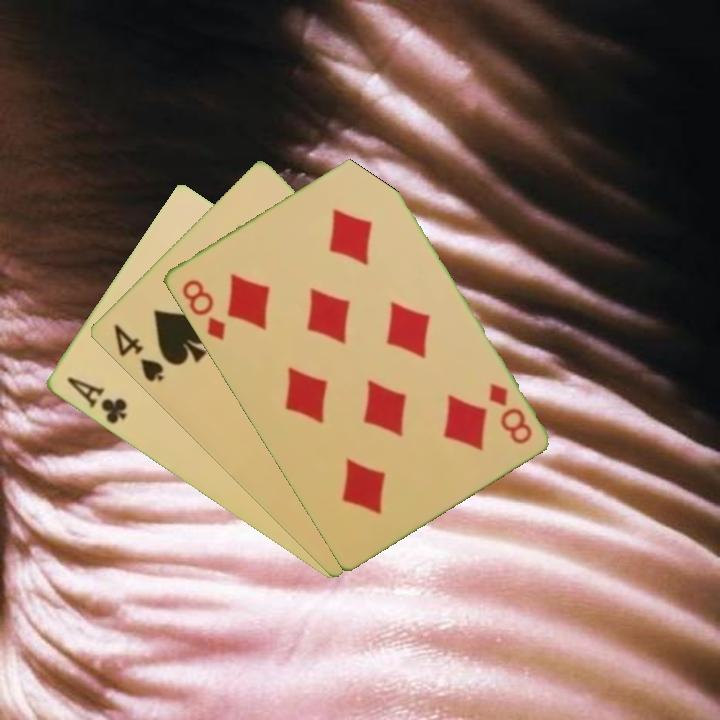4s: (109, 320, 166, 385)
8d: (484, 378, 535, 448), (177, 275, 228, 343)
Ac: (62, 373, 130, 428)
